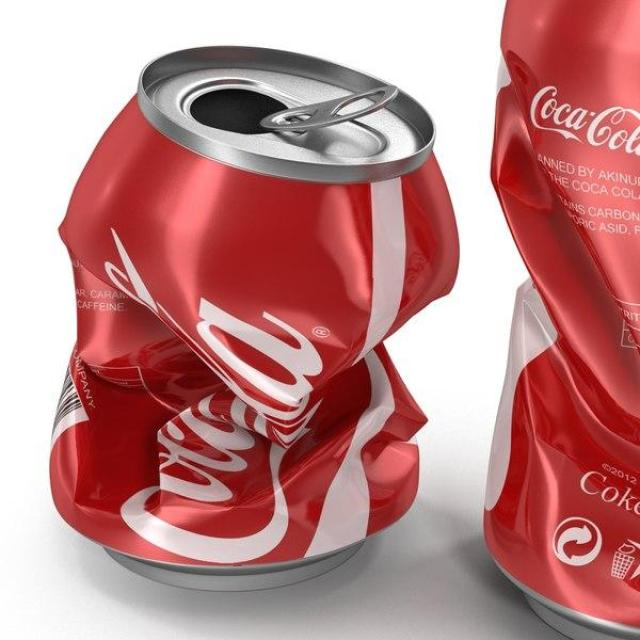can: (47, 43, 459, 592), (483, 0, 640, 640)
pop tab: (260, 84, 400, 133)
